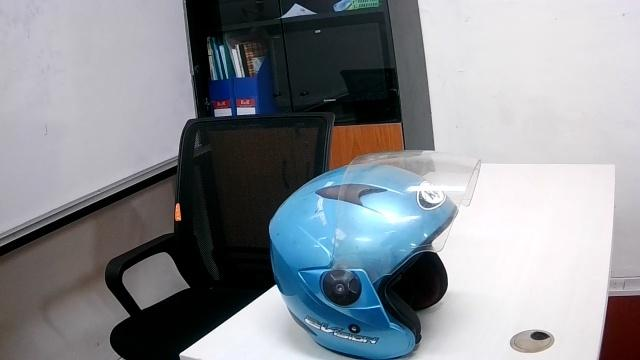Kursi: (103, 110, 334, 359)
